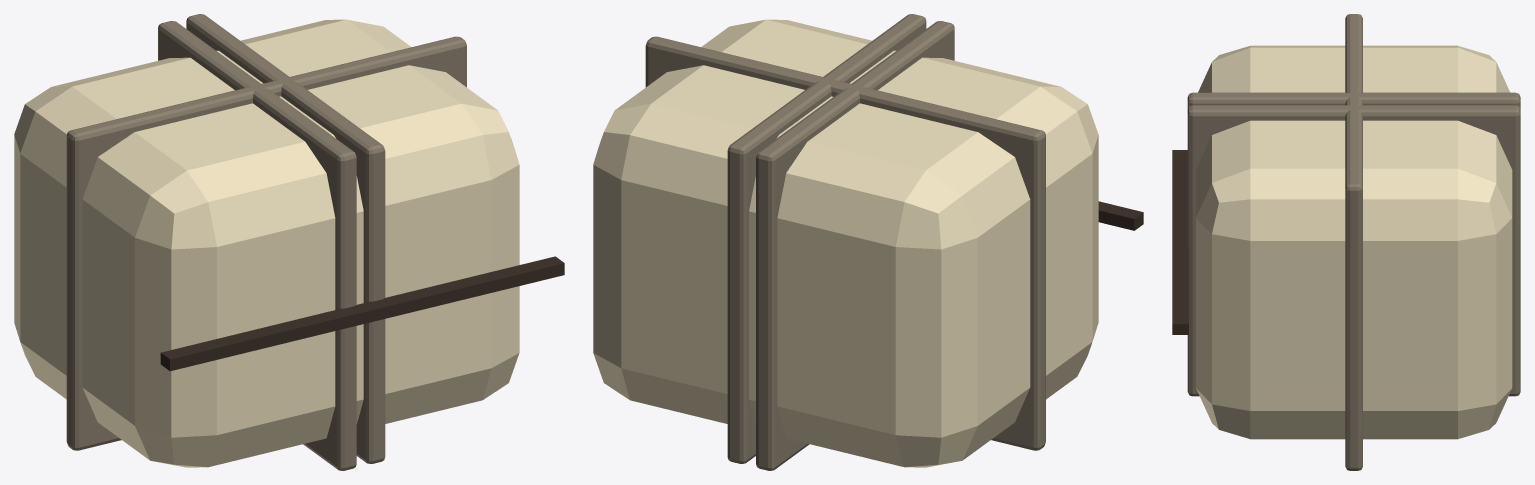
Rendered from kit_parcel.glb.
3 renders of one model, left to right at view 1: azimuth 30°, elevation 25°; view 2: azimuth 150°, elevation 25°; view 3: azimuth 270°, elevation 25°, orthographic. The views are drawn at different scales.
Parts seen in each view (by area): view 1: Linen parcel, Parcel cross tie, Parcel tie, Parcel tie.001, Woodland worn prop binding.003; view 2: Linen parcel, Parcel cross tie, Parcel tie, Parcel tie.001, Woodland worn prop binding.003; view 3: Linen parcel, Parcel tie.001, Parcel cross tie, Parcel tie, Woodland worn prop binding.003.
Boxes of the visible parts, left/top/right/bottom form: Linen parcel: left=14, top=19, right=519, bottom=467; Parcel cross tie: left=66, top=36, right=466, bottom=450; Parcel tie: left=158, top=21, right=356, bottom=470; Parcel tie.001: left=186, top=14, right=385, bottom=463; Woodland worn prop binding.003: left=160, top=256, right=564, bottom=371; Linen parcel: left=593, top=19, right=1098, bottom=467; Parcel cross tie: left=645, top=36, right=1045, bottom=450; Parcel tie: left=756, top=21, right=954, bottom=470; Parcel tie.001: left=727, top=14, right=926, bottom=463; Woodland worn prop binding.003: left=1098, top=201, right=1143, bottom=230; Linen parcel: left=1196, top=45, right=1512, bottom=439; Parcel tie.001: left=1187, top=105, right=1520, bottom=396; Parcel cross tie: left=1345, top=14, right=1362, bottom=470; Parcel tie: left=1187, top=92, right=1520, bottom=108; Woodland worn prop binding.003: left=1172, top=150, right=1188, bottom=334.
Size of the model in its own units: 0.417 by 0.32 by 0.3525.
